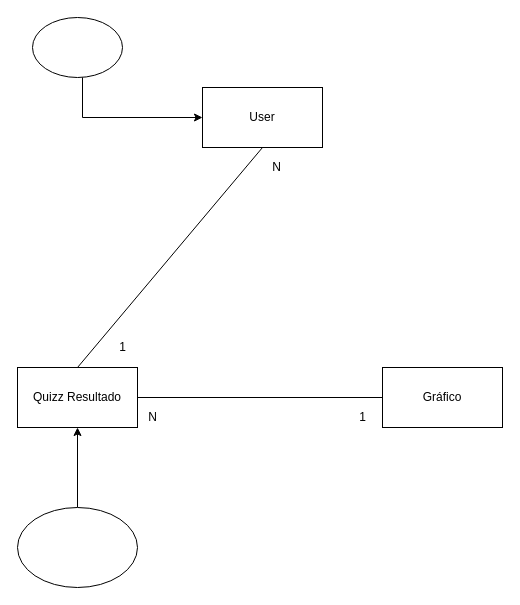
Some shapes in this 520 by 605 pixel diagram are drawn without their labels. The shapes that lost their labels are listed below. From the top down, each one's centre as x and y in pixels, then its label:
(x=77, y=47): nome
(x=77, y=547): pontuacao
